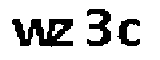3: (83, 8, 114, 49)
c: (118, 17, 143, 51)
w: (10, 16, 55, 51)
z: (53, 18, 78, 48)
